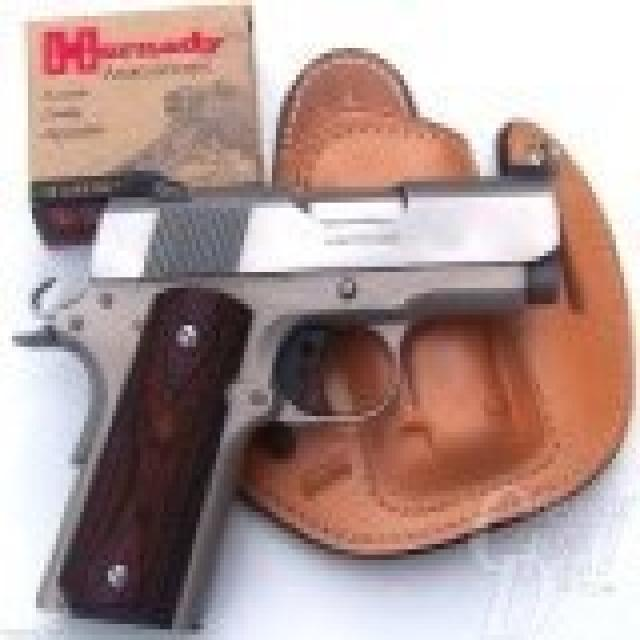Gun: (12, 161, 603, 627)
